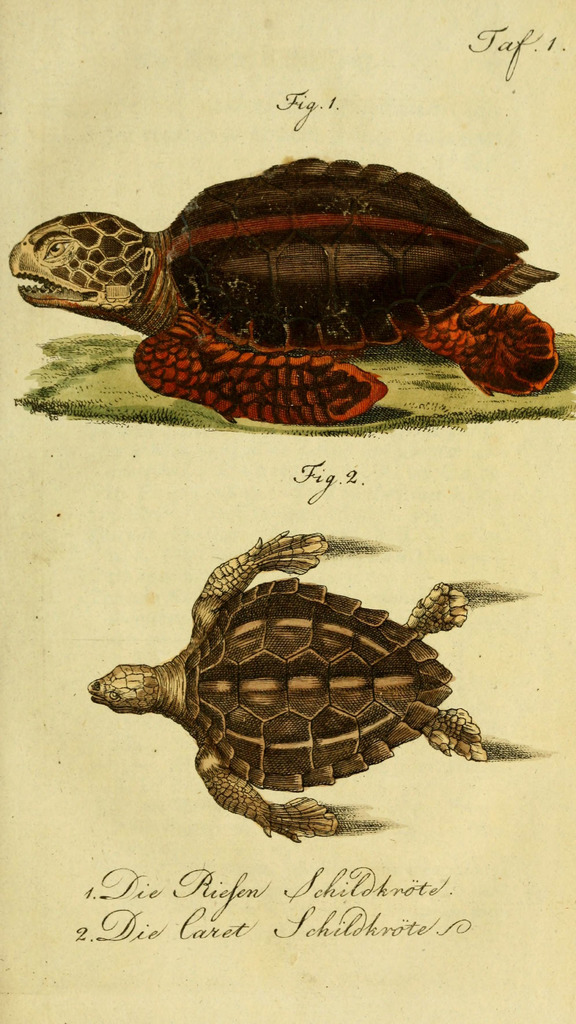Sea turtles: (8, 151, 558, 430), (82, 518, 492, 847)
